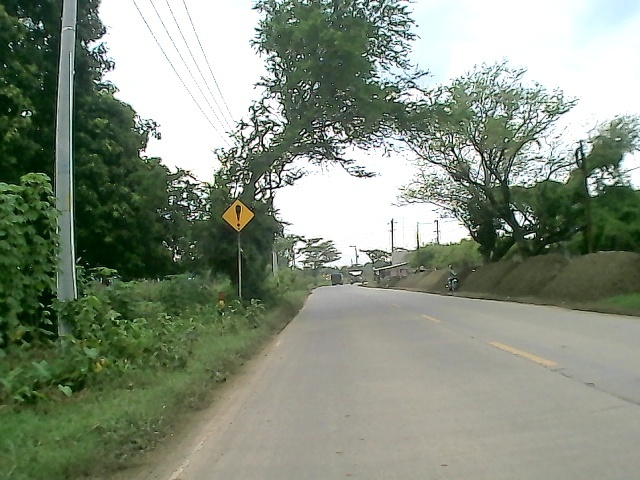Hati-hati: (220, 199, 259, 235)
